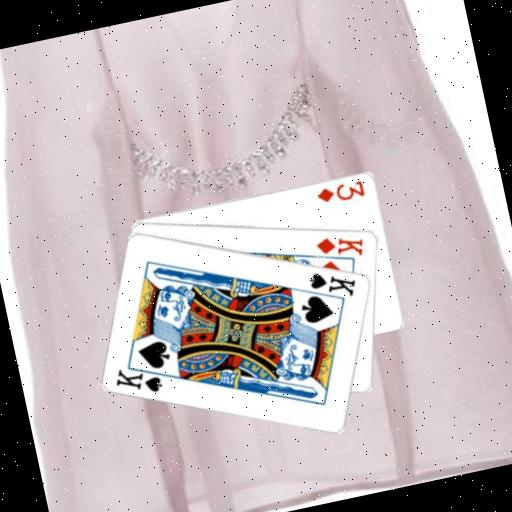3D: (312, 176, 366, 208)
KD: (311, 227, 368, 266)
KS: (110, 354, 174, 402), (304, 261, 361, 306)
